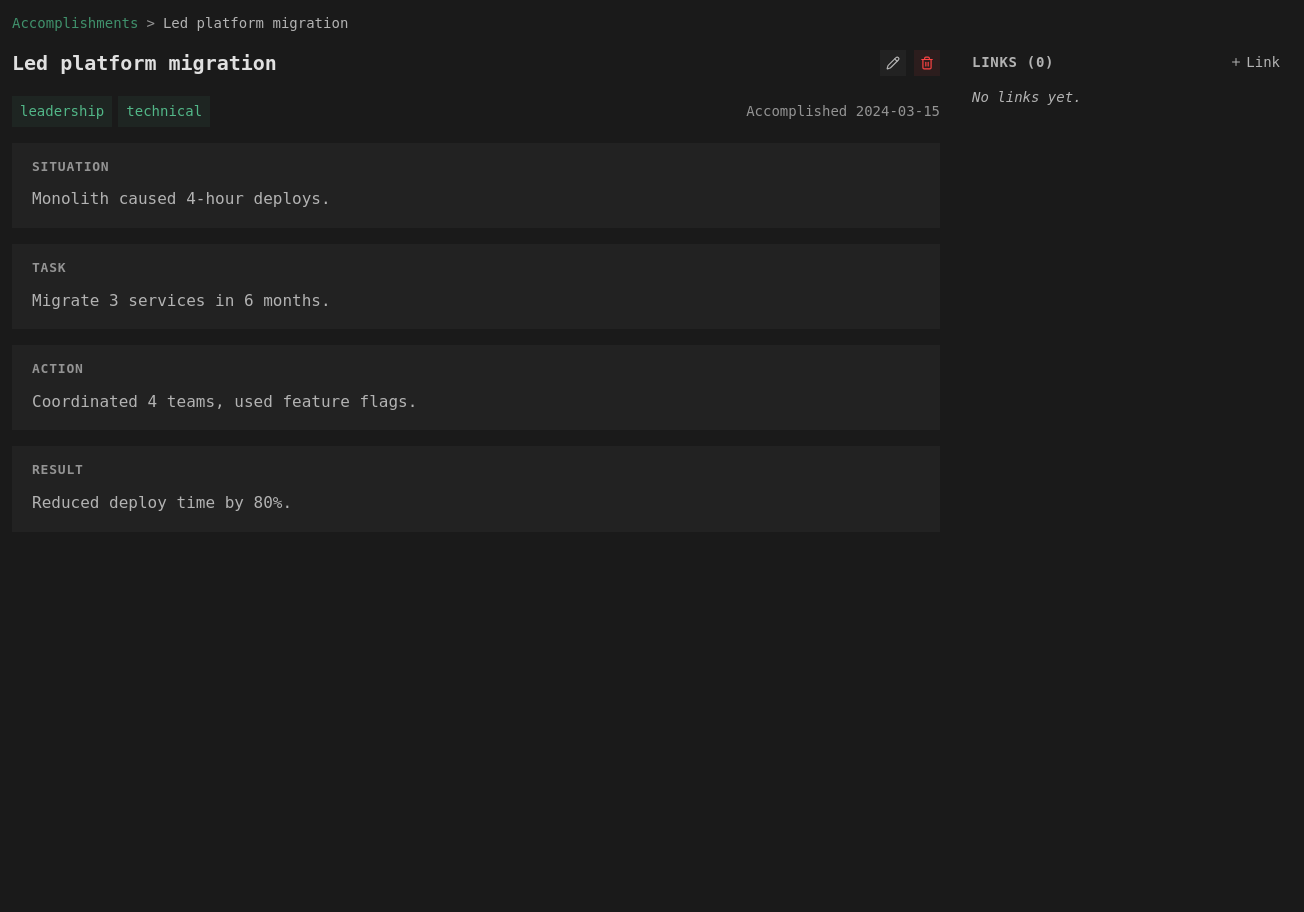
AccomplishmentDetailView › edit button switches to edit mode with pre-populated fields
Expected: the text "Led platform migration" is shown, [163,12,348,34]
Click the button named "Edit": click(893, 63) [880,50,906,76]
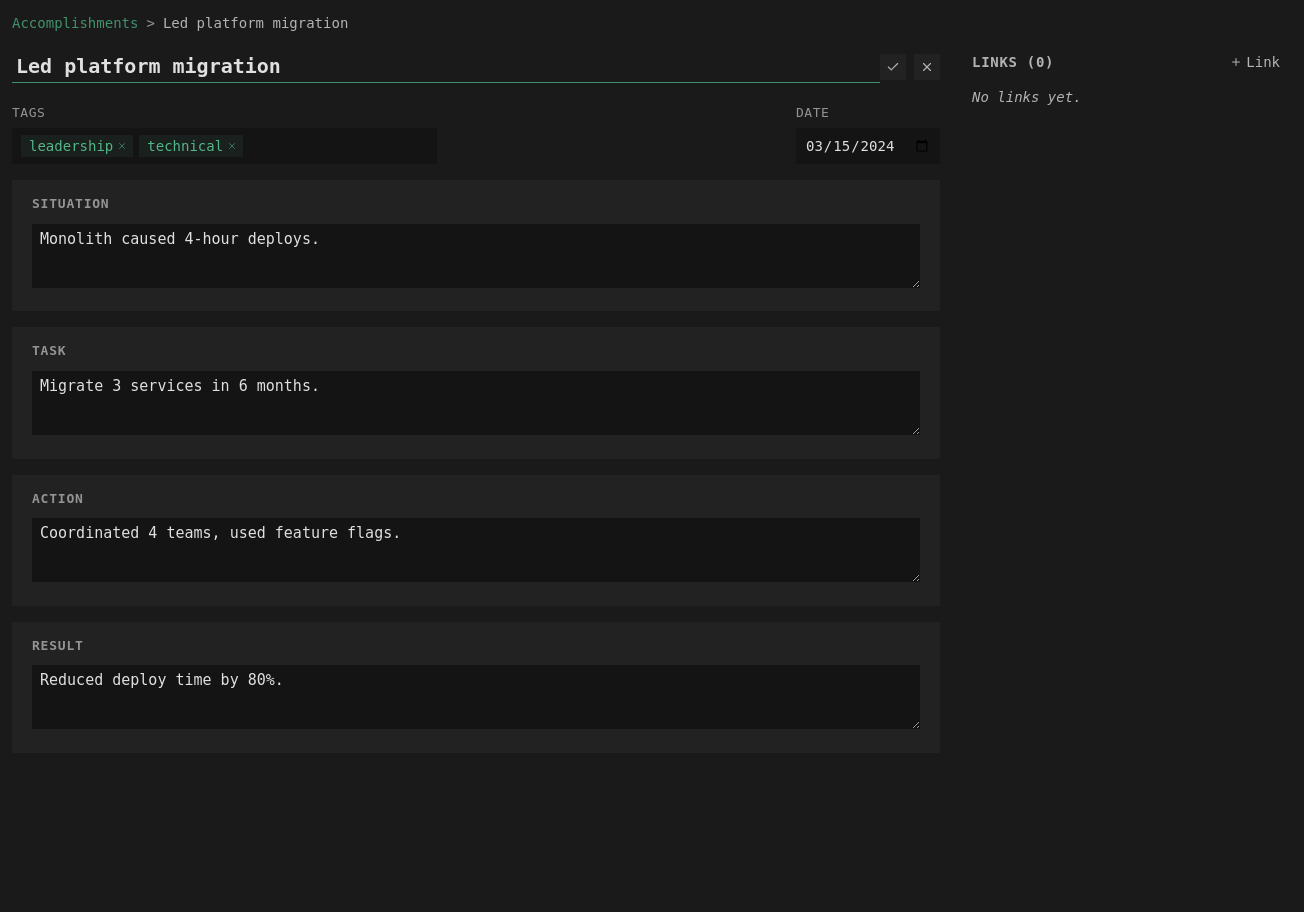
Expected: the field showing "Led platform migration" is shown, [12,50,880,83]
